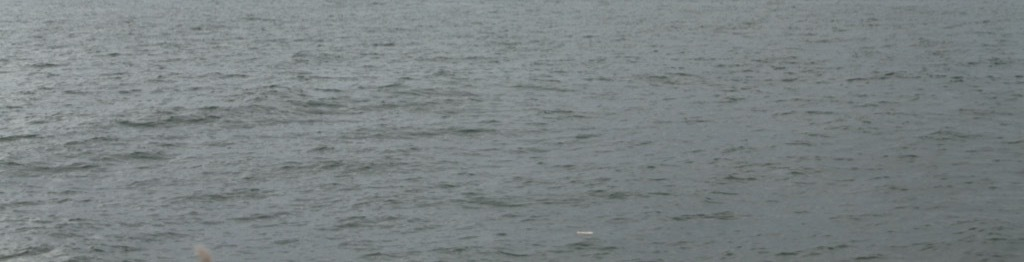plastic: (568, 222, 605, 243)
